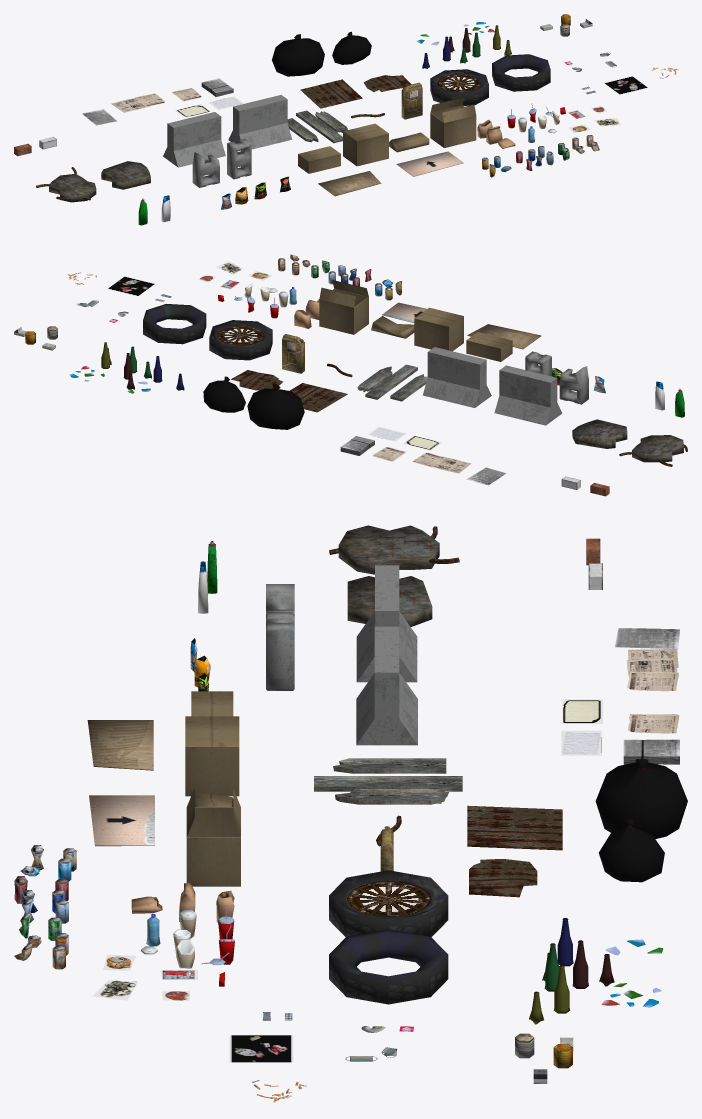
File: trash_and_debris.glb
3 views of the same model, one above another, from view 1: azimuth 30°, elevation 25°; view 2: azimuth 150°, elevation 25°; view 3: azimuth 270°, elevation 25° (orthographic). The views are drawn at different scales.
Bounding box in the file's own units: 23.34 × 1.86 × 11.5.
Materials: 17 (17 with a texture image).
